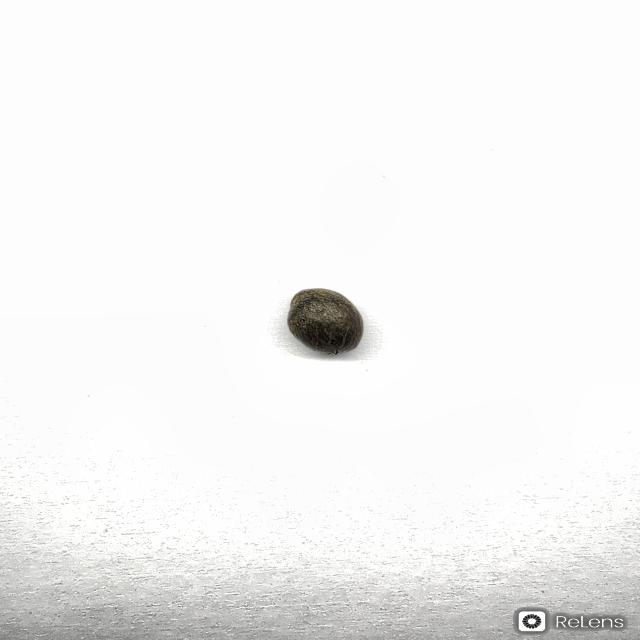Black: (286, 287, 364, 356)
